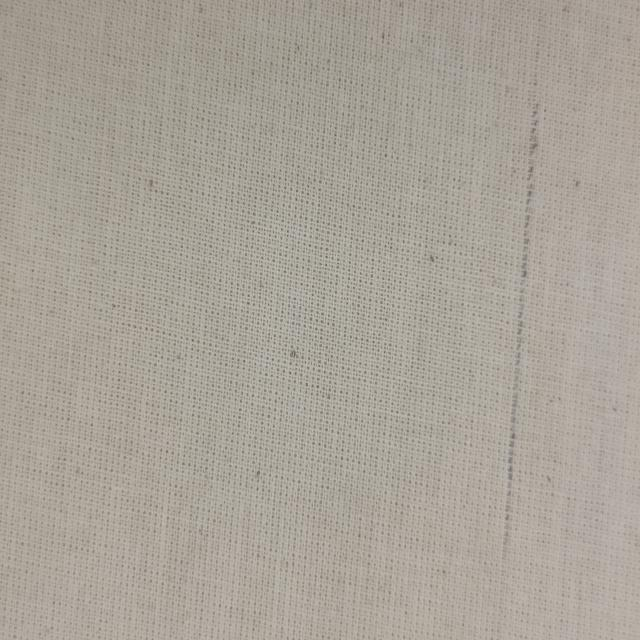Thread_other: (436, 14, 610, 628)
